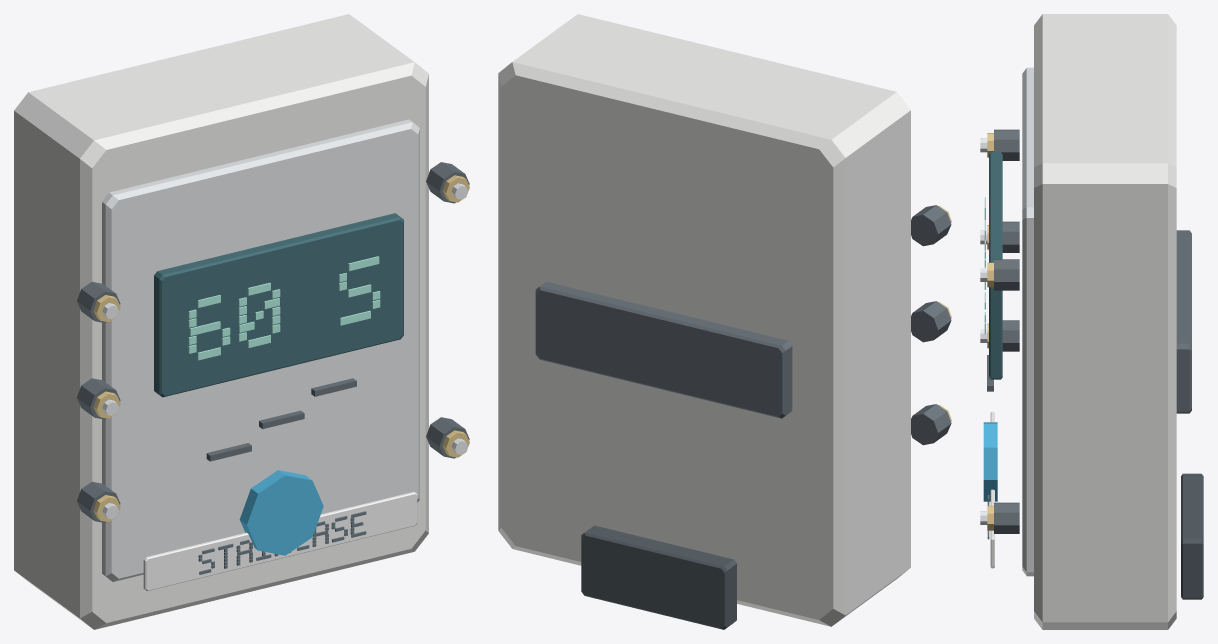
File: staircaseTimer.glb
The picture shows the model from 3 angles, left to right: view 1: azimuth 30°, elevation 25°; view 2: azimuth 150°, elevation 25°; view 3: azimuth 270°, elevation 25°; orthographic projection. The views are drawn at different scales.
Visible parts, largest first — view 1: staircaseTimer-board; view 2: staircaseTimer-board; view 3: staircaseTimer-board.
Boxes of the visible parts, x1,y1,x2,y2 form: staircaseTimer-board: [14, 14, 469, 629]; staircaseTimer-board: [498, 14, 951, 629]; staircaseTimer-board: [980, 14, 1203, 629].
Size of the model in its own units: 2.4 by 3.03 by 1.28.
